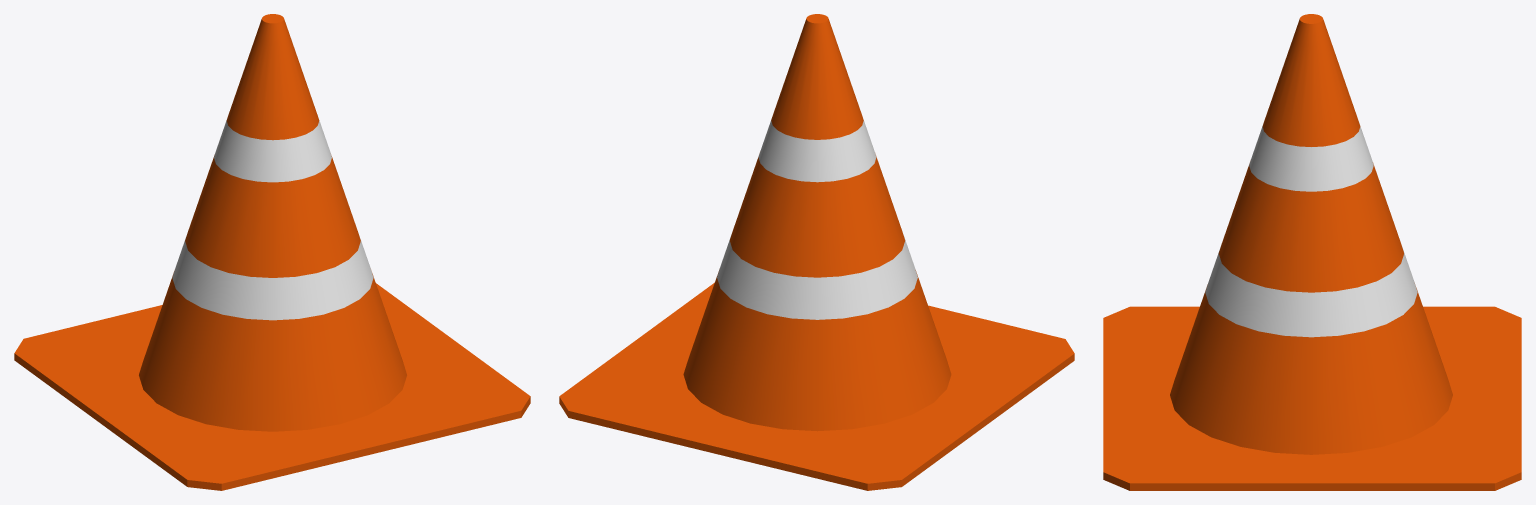
The model's file is Cono.FBX.
The picture shows the model from 3 angles, left to right: view 1: azimuth 30°, elevation 25°; view 2: azimuth 150°, elevation 25°; view 3: azimuth 270°, elevation 25°; orthographic projection. The views are drawn at different scales.
Parts seen in each view (by area): view 1: Triangulo, Base; view 2: Triangulo, Base; view 3: Triangulo, Base.
Part boxes in pixels (bbox=[...]): Triangulo: bbox=[139, 14, 406, 431]; Base: bbox=[14, 283, 530, 490]; Triangulo: bbox=[683, 14, 951, 431]; Base: bbox=[559, 282, 1074, 490]; Triangulo: bbox=[1170, 14, 1452, 454]; Base: bbox=[1103, 306, 1521, 490].
Size of the model in its own units: 29.84 by 30.21 by 29.84.
Materials: 2 (2 with a texture image).
